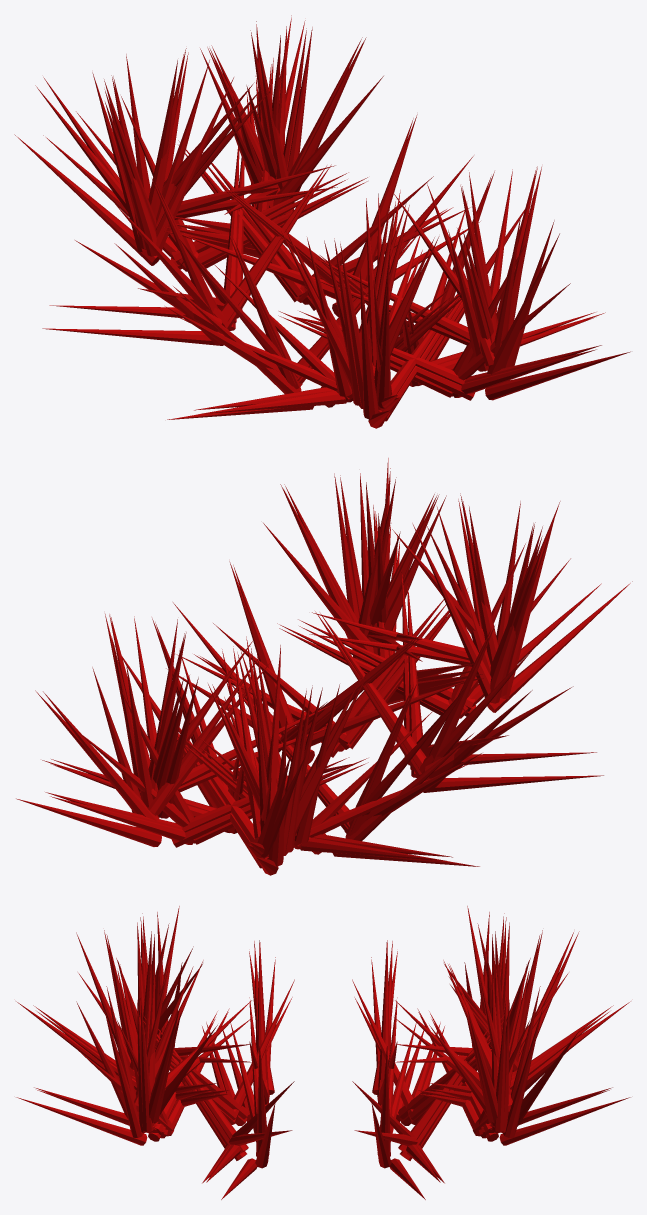
3 renders of one model, top to bottom at view 1: azimuth 30°, elevation 25°; view 2: azimuth 150°, elevation 25°; view 3: azimuth 270°, elevation 25°, orthographic. The views are drawn at different scales.
Parts seen in each view (by area): view 1: spikes; view 2: spikes; view 3: spikes.
Boxes of the visible parts, x1,y1,x2,y2 form: spikes: (14, 15, 630, 428); spikes: (16, 458, 632, 875); spikes: (16, 906, 630, 1199).
Bounding box in the file's own units: 3.24 × 1.75 × 4.78.
